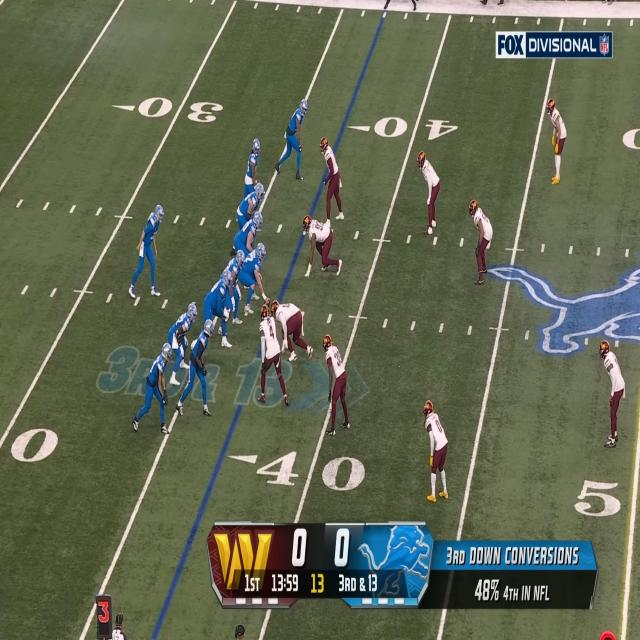Ball: (264, 299, 270, 308)
